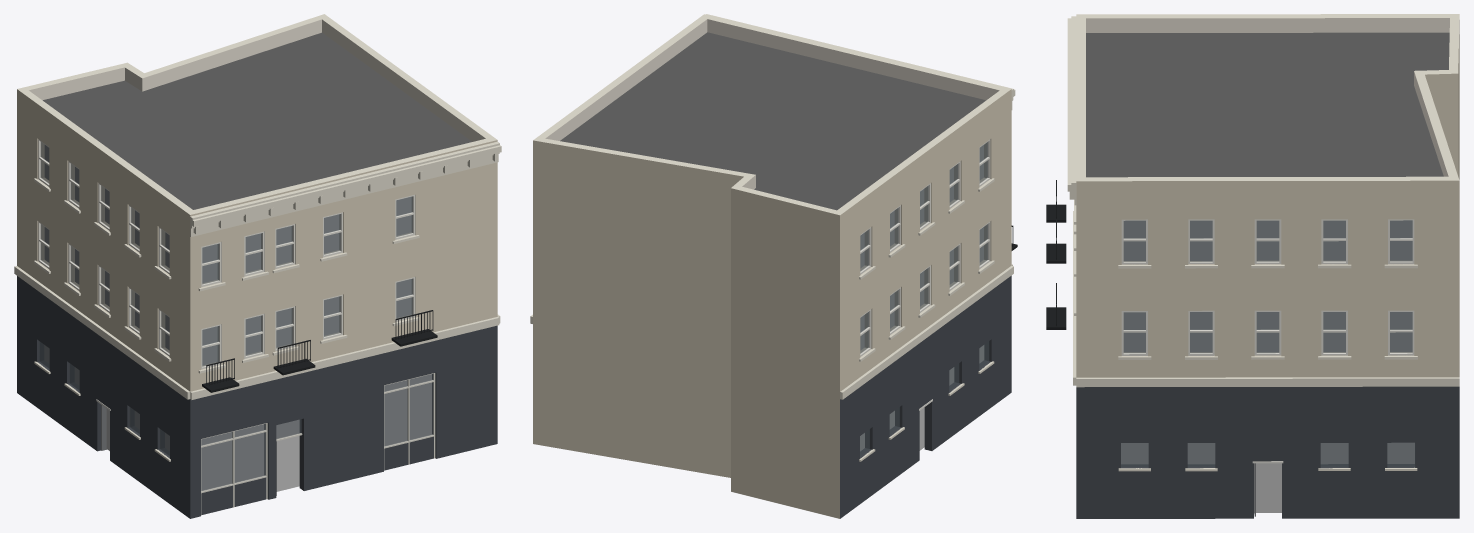
File: exterior.glb
The picture shows the model from 3 angles, left to right: view 1: azimuth 30°, elevation 25°; view 2: azimuth 150°, elevation 25°; view 3: azimuth 270°, elevation 25°; orthographic projection. The views are drawn at different scales.
Parts seen in each view (by area): view 1: shell, roof, glazing, shadow-proxy, trim, frames, storefront, hand-ornament; view 2: shell, roof, glazing, trim, frames, shadow-proxy; view 3: shell, roof, shadow-proxy, glazing, trim, frames, hand-ornament.
Part boxes in pixels (<box>): shell: <box>17,14,497,518</box>; roof: <box>43,32,471,209</box>; glazing: <box>39,142,433,490</box>; shadow-proxy: <box>44,145,431,491</box>; trim: <box>14,141,501,461</box>; frames: <box>38,139,415,369</box>; storefront: <box>96,373,435,515</box>; hand-ornament: <box>202,310,437,392</box>; shell: <box>533,14,1011,518</box>; roof: <box>560,32,985,210</box>; glazing: <box>860,142,989,455</box>; trim: <box>530,14,1015,461</box>; frames: <box>860,139,990,356</box>; shadow-proxy: <box>860,145,983,450</box>; shell: <box>1076,14,1459,518</box>; roof: <box>1086,32,1449,177</box>; shadow-proxy: <box>1121,220,1414,512</box>; glazing: <box>1121,220,1415,466</box>; trim: <box>1067,16,1459,471</box>; frames: <box>1121,219,1414,355</box>; hand-ornament: <box>1046,180,1066,329</box>.
Size of the model in its own units: 14.44 by 13.37 by 14.83.
